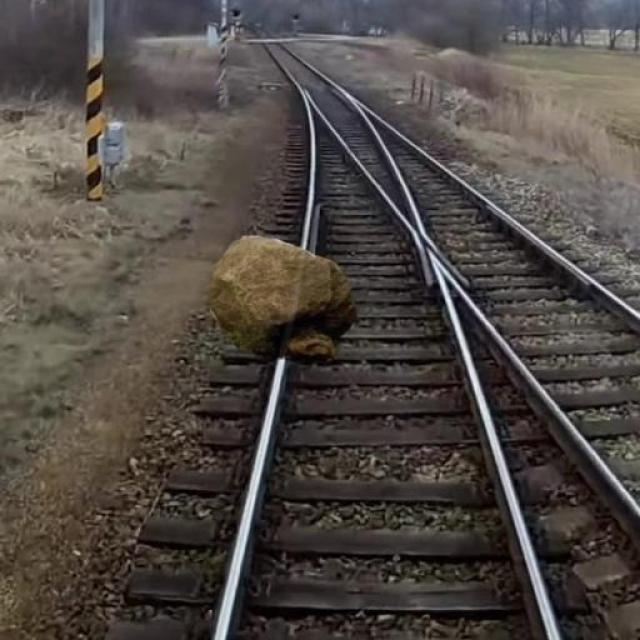Stone: (201, 230, 366, 361)
